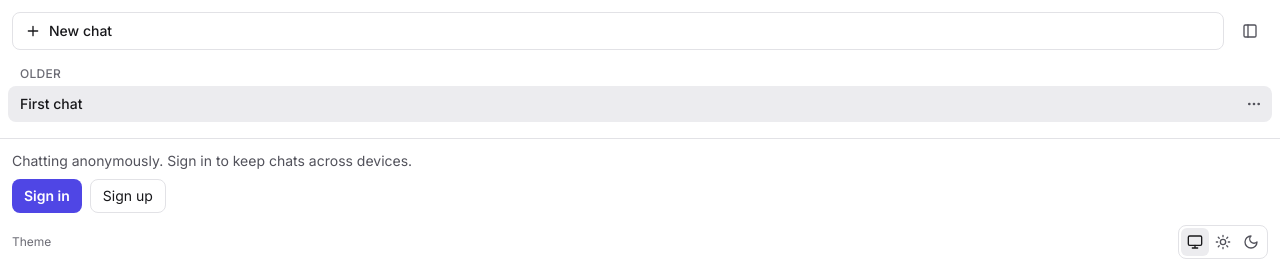
ChatSidebar › opens an actions menu with keyboard support
expect the link "First chat" is shown: met, box [8, 86, 1272, 122]
Step 1. Click the button named "Actions for First chat" → (1254, 104), box [1240, 90, 1268, 118]
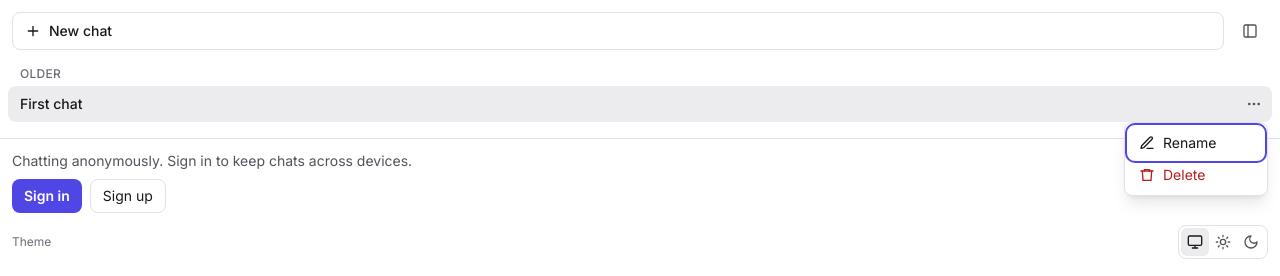
Step 2. Press Arrowdown
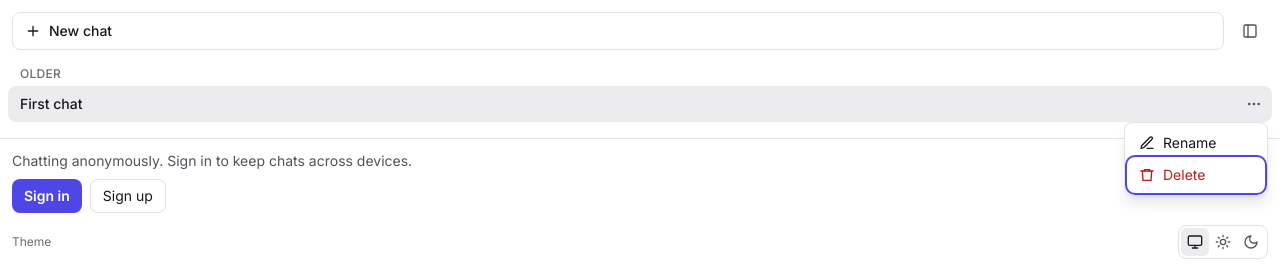
Step 3. Press Escape
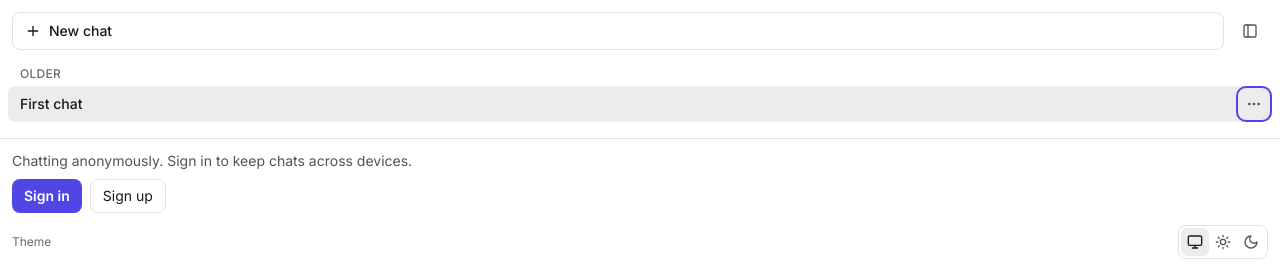
expect the menu is gone: met
